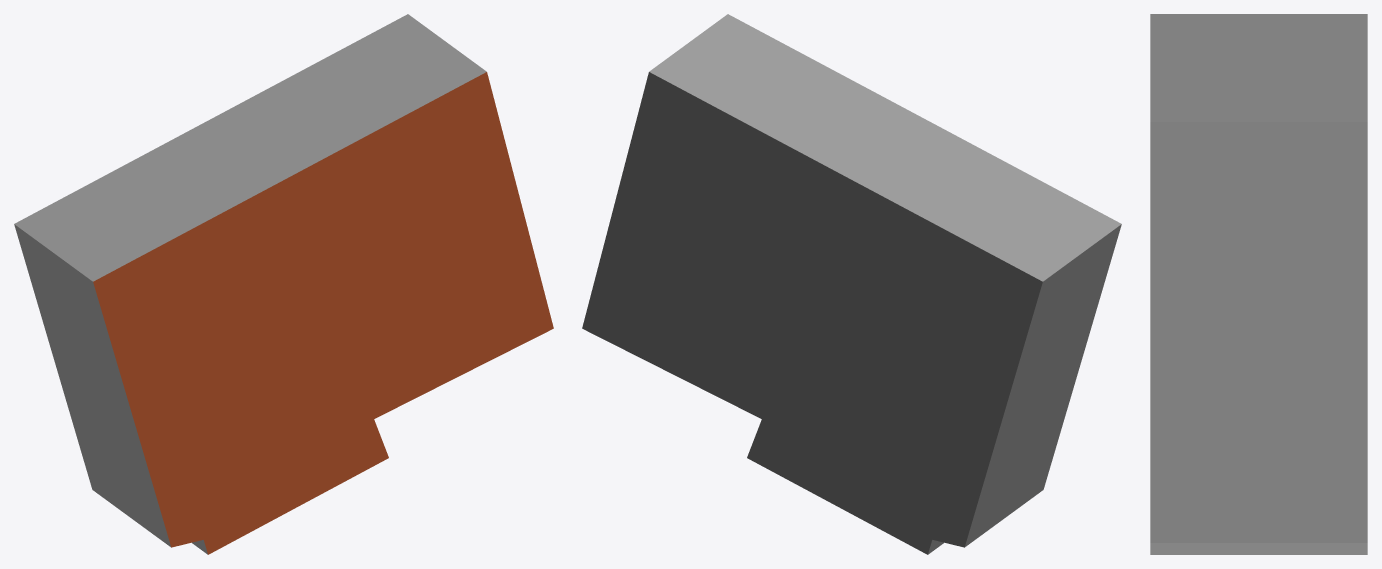
File: construction_2905_assumed_A_Casa_h6m.obj
3 renders of one model, left to right at view 1: azimuth 30°, elevation 25°; view 2: azimuth 150°, elevation 25°; view 3: azimuth 270°, elevation 25°, orthographic. The views are drawn at different scales.
Visible parts, largest first — view 1: construction_2905_assumed_A_Casa; view 2: construction_2905_assumed_A_Casa; view 3: construction_2905_assumed_A_Casa.
Part boxes in pixels (box(x1,y1,x2,y2)): construction_2905_assumed_A_Casa: box(14, 14, 553, 554); construction_2905_assumed_A_Casa: box(582, 14, 1121, 554); construction_2905_assumed_A_Casa: box(1150, 14, 1367, 554).
Size of the model in its own units: 20.21 by 17.4 by 6.
